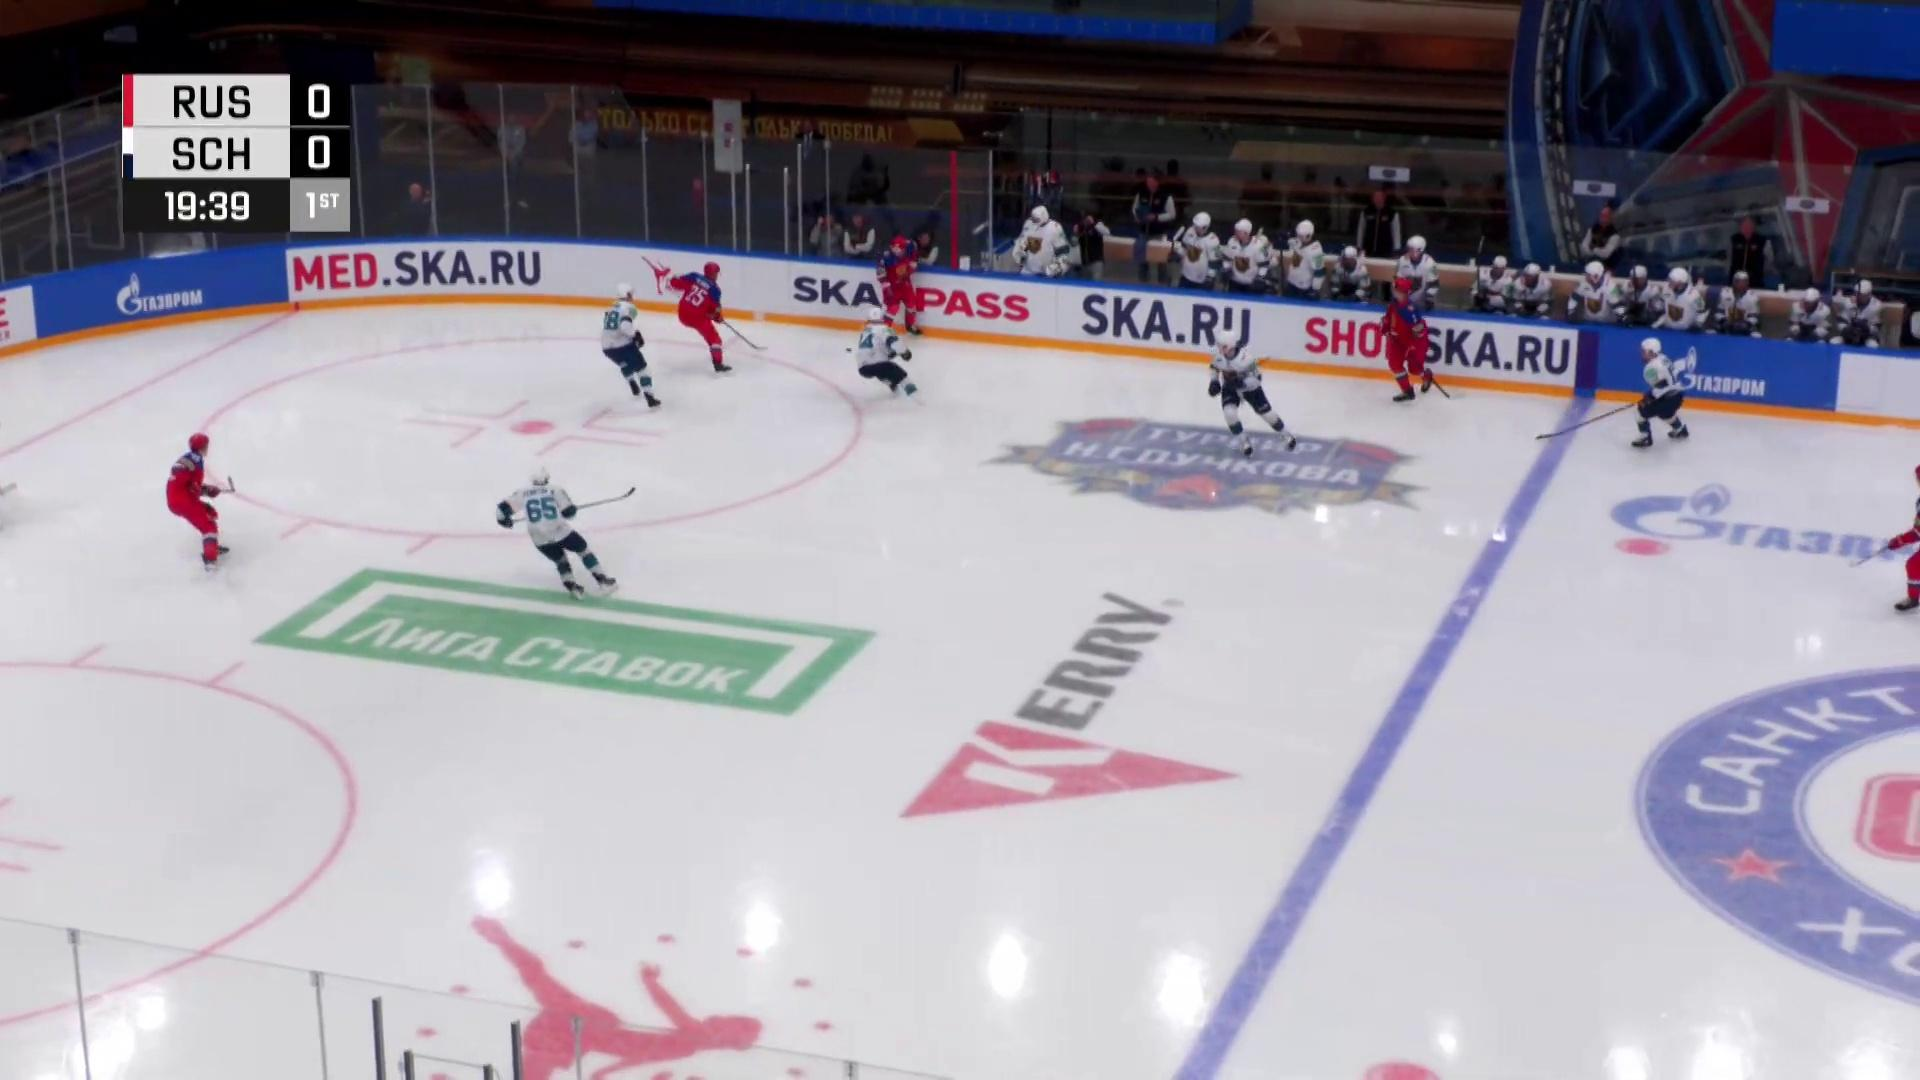ball: (845, 348, 852, 353)
